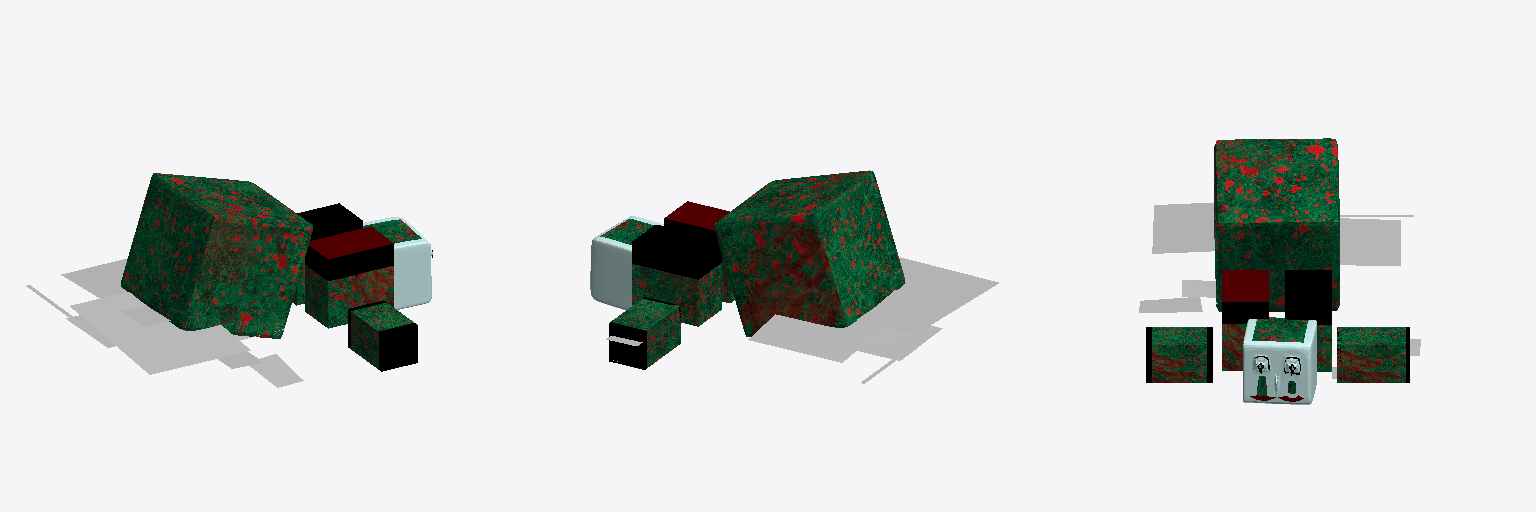
3 renders of one model, left to right at view 1: azimuth 30°, elevation 25°; view 2: azimuth 150°, elevation 25°; view 3: azimuth 270°, elevation 25°, orthographic.
Parts seen in each view (by area): view 1: Cube_Cube.001, CollisionLL_Cube.003, RectT1_Plane, Cube.005_Cube.007, Cube.001_Cube.002, RectT2_Plane.001, Cube.003_Cube.004, RectLA2_Plane.002; view 2: Cube_Cube.001, Cube.003_Cube.004, RectT1_Plane, RectT2_Plane.001, Cube.004_Cube.005, Cube.001_Cube.002, CollisionLL_Cube.003, RectH2_Plane.007; view 3: Cube_Cube.001, Cube.001_Cube.002, Cube.004_Cube.005, Cube.005_Cube.007, CollisionLL_Cube.003, Cube.003_Cube.004, RectT1_Plane, RectT2_Plane.001, RectLA2_Plane.002, RectLA1_Plane.003.
Boxes of the visible parts, box(x1,y1,x2,y2) form: Cube_Cube.001: box(121, 173, 312, 338); CollisionLL_Cube.003: box(305, 226, 393, 328); RectT1_Plane: box(70, 292, 250, 374); Cube.005_Cube.007: box(348, 300, 417, 371); Cube.001_Cube.002: box(363, 217, 432, 309); RectT2_Plane.001: box(61, 258, 170, 326); Cube.003_Cube.004: box(292, 203, 362, 305); RectLA2_Plane.002: box(250, 354, 303, 387); Cube_Cube.001: box(714, 170, 904, 336); Cube.003_Cube.004: box(632, 225, 721, 326); RectT1_Plane: box(857, 257, 998, 334); RectT2_Plane.001: box(748, 290, 920, 362); Cube.004_Cube.005: box(609, 297, 680, 369); Cube.001_Cube.002: box(590, 216, 663, 309); CollisionLL_Cube.003: box(664, 201, 734, 302); RectH2_Plane.007: box(857, 325, 942, 360); Cube_Cube.001: box(1214, 138, 1339, 311); Cube.001_Cube.002: box(1243, 317, 1316, 404); Cube.004_Cube.005: box(1337, 327, 1409, 382); Cube.005_Cube.007: box(1146, 327, 1212, 382); CollisionLL_Cube.003: box(1222, 270, 1268, 370); Cube.003_Cube.004: box(1285, 270, 1331, 371); RectT1_Plane: box(1152, 203, 1214, 253); RectT2_Plane.001: box(1340, 218, 1400, 265); RectLA2_Plane.002: box(1139, 297, 1202, 312); RectLA1_Plane.003: box(1182, 280, 1215, 297).
Bounding box in the file's own units: 4.58 × 2.09 × 3.29.
Materials: 14 (1 with a texture image).